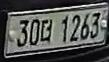0: (29, 17, 41, 47)
1: (58, 14, 70, 43)
2: (70, 15, 81, 42)
3: (17, 18, 29, 49), (90, 10, 100, 40)
6: (80, 12, 90, 41)
더: (40, 17, 55, 44)
